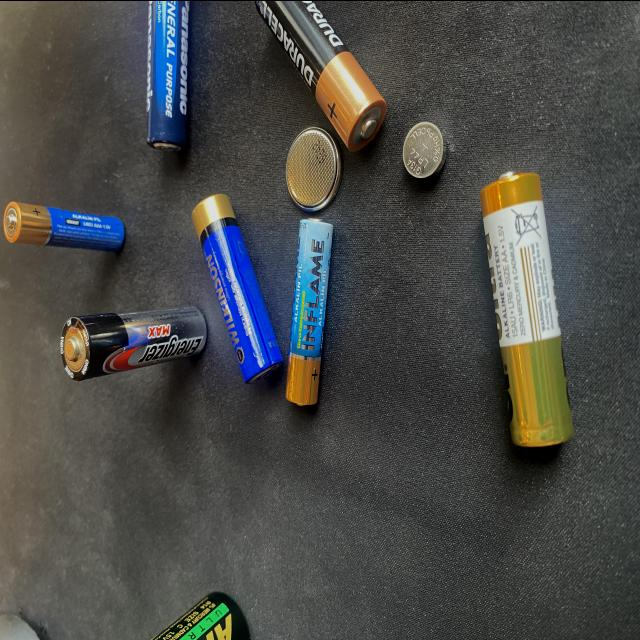AA: (478, 166, 576, 449), (248, 0, 388, 153), (190, 191, 285, 384), (58, 302, 209, 382), (283, 216, 335, 407), (2, 198, 127, 253)
COIN: (284, 123, 346, 212), (402, 119, 449, 179)
